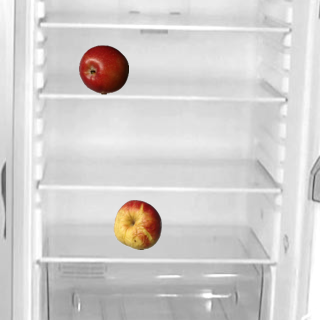Apple Braeburn: (78, 44, 128, 94)
Apple Red Yellow 1: (112, 199, 162, 249)
